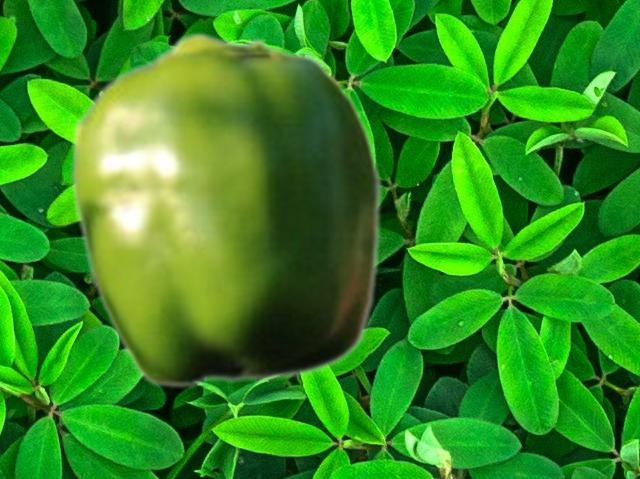bell_pepper: (70, 31, 382, 388)
